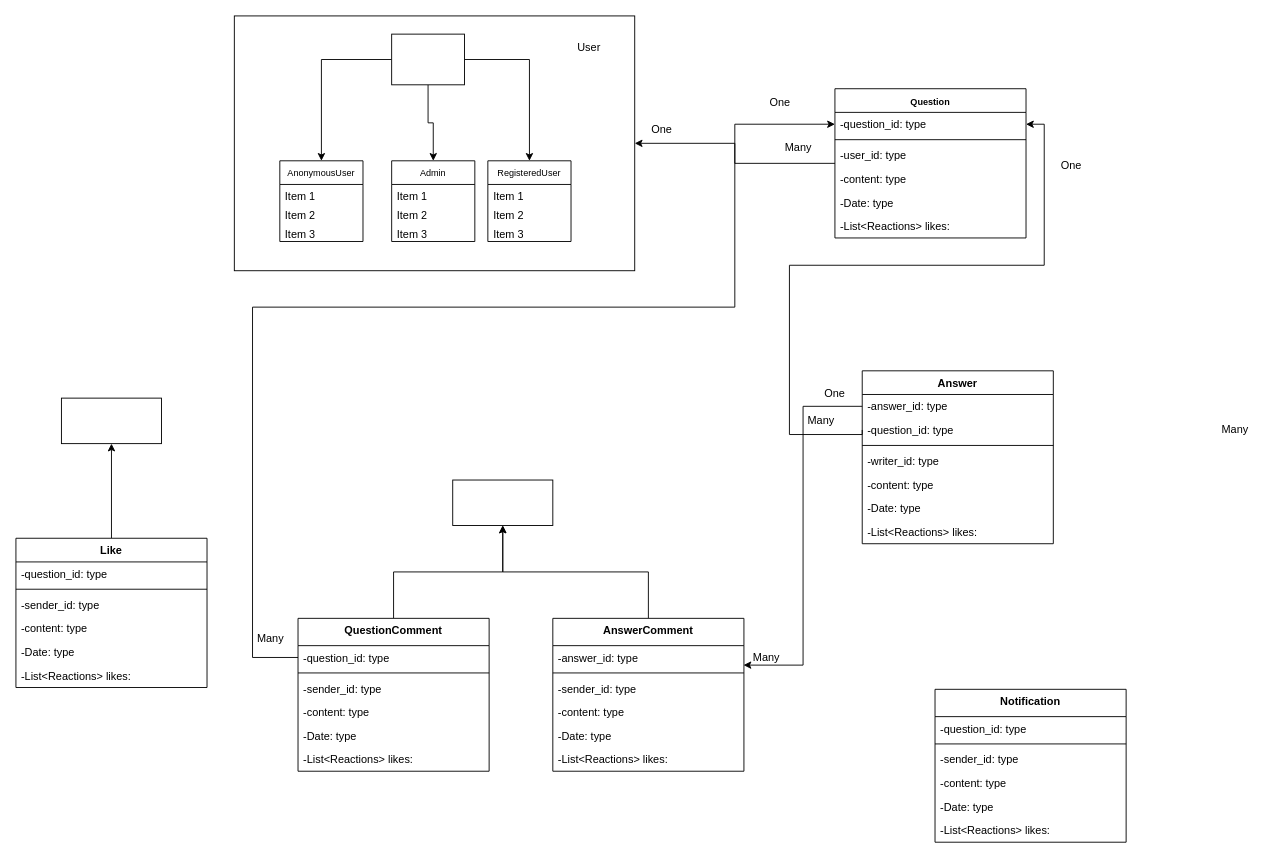
Some shapes in this 1279 by 861 pixel diagram are drawn without their labels. The centre of each missing label's shape, as x and y in pixels:
«Comment»: pixel 502 502
«interface» AppUser: pixel 427 59
«Reaction»: pixel 111 420
